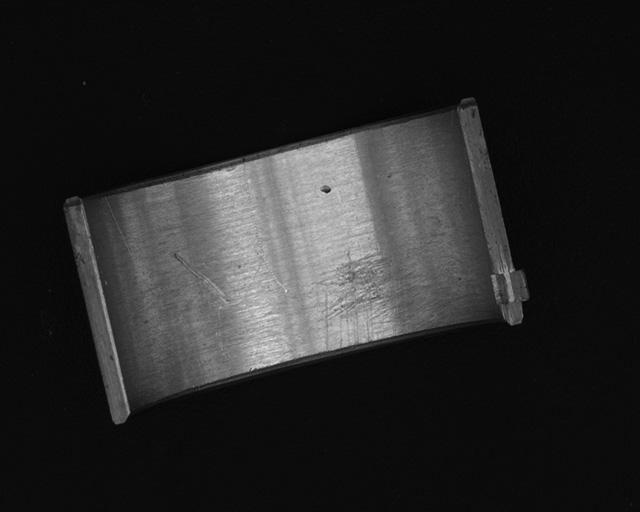bruise: (319, 185, 332, 195)
nick: (243, 160, 291, 295), (105, 194, 153, 295), (172, 252, 227, 302), (217, 299, 231, 364)
scratch: (312, 249, 447, 350)
